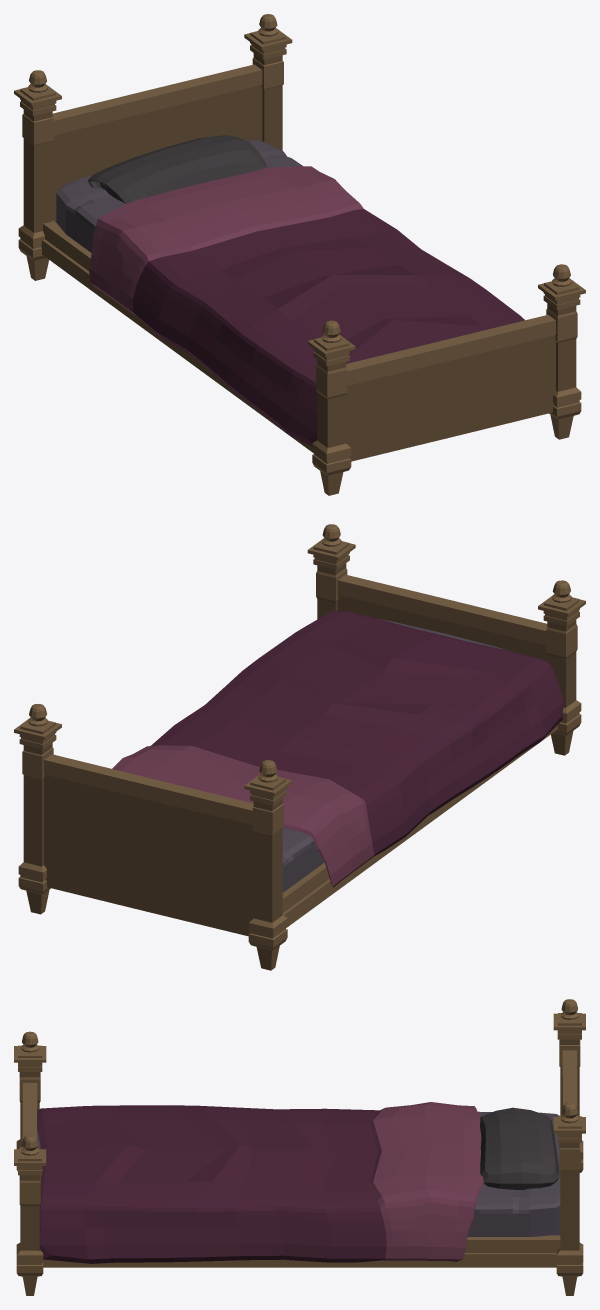
File: BedTwin.glb
3 renders of one model, top to bottom at view 1: azimuth 30°, elevation 25°; view 2: azimuth 150°, elevation 25°; view 3: azimuth 270°, elevation 25°, orthographic. The views are drawn at different scales.
Visible parts, largest first — view 1: Comforter, BedFrame, Pillow, Mattress; view 2: Comforter, BedFrame, Mattress; view 3: Comforter, BedFrame, Pillow, Mattress.
Boxes of the visible parts, x1,y1,x2,y2 form: Comforter: [89, 166, 524, 446]; BedFrame: [14, 14, 585, 495]; Pillow: [87, 135, 267, 203]; Mattress: [56, 140, 302, 252]; Comforter: [112, 610, 563, 887]; BedFrame: [14, 524, 585, 970]; Mattress: [282, 618, 507, 892]; Comforter: [37, 1102, 483, 1263]; BedFrame: [14, 999, 585, 1295]; Pillow: [480, 1107, 559, 1189]; Mattress: [37, 1111, 560, 1236].
Size of the model in its own units: 2.06 by 1.56 by 4.26.
